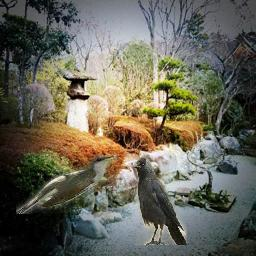Crow: (135, 157, 188, 245)
Cuckoo: (17, 156, 120, 215)
